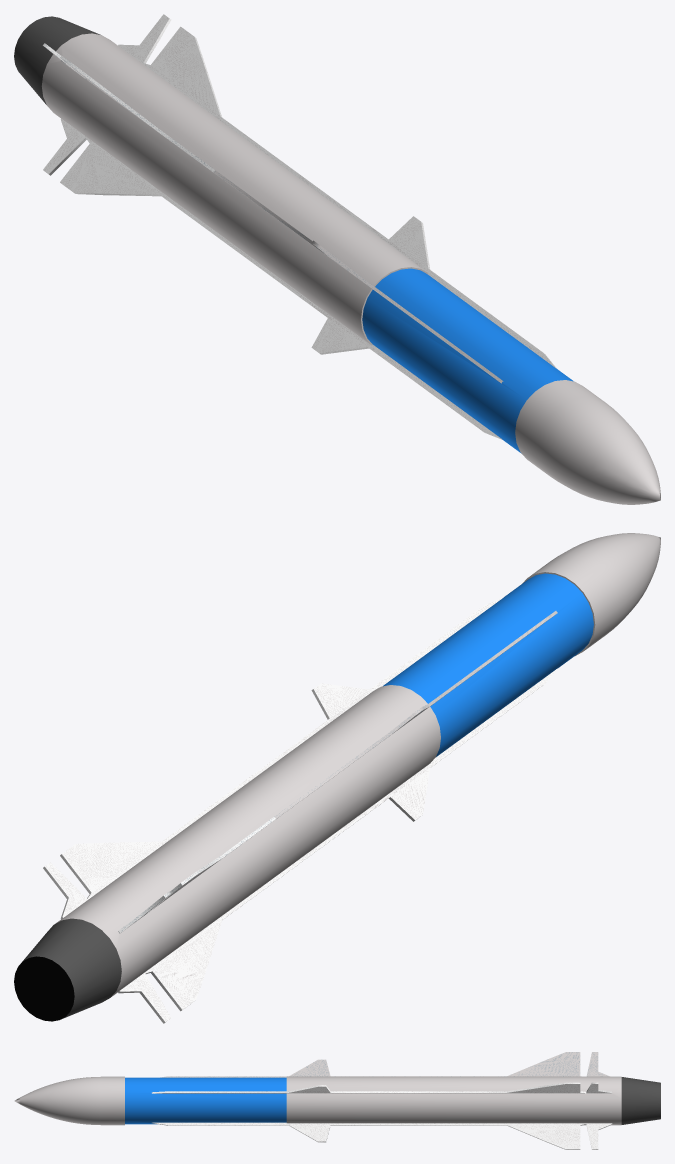
File: Missile.dae
The picture shows the model from 3 angles, top to bottom: view 1: azimuth 30°, elevation 25°; view 2: azimuth 150°, elevation 25°; view 3: azimuth 270°, elevation 25°; orthographic projection. The views are drawn at different scales.
Parts seen in each view (by area): view 1: instance_1 (×8); view 2: instance_1 (×9); view 3: instance_1 (×7).
Boxes of the visible parts, bbox=[...] form: instance_1 (×8): bbox=[14, 14, 660, 504]; instance_1 (×9): bbox=[14, 533, 660, 1023]; instance_1 (×7): bbox=[14, 1052, 660, 1149].
Bounding box in the file's own units: 18.1 × 157 × 18.1.
